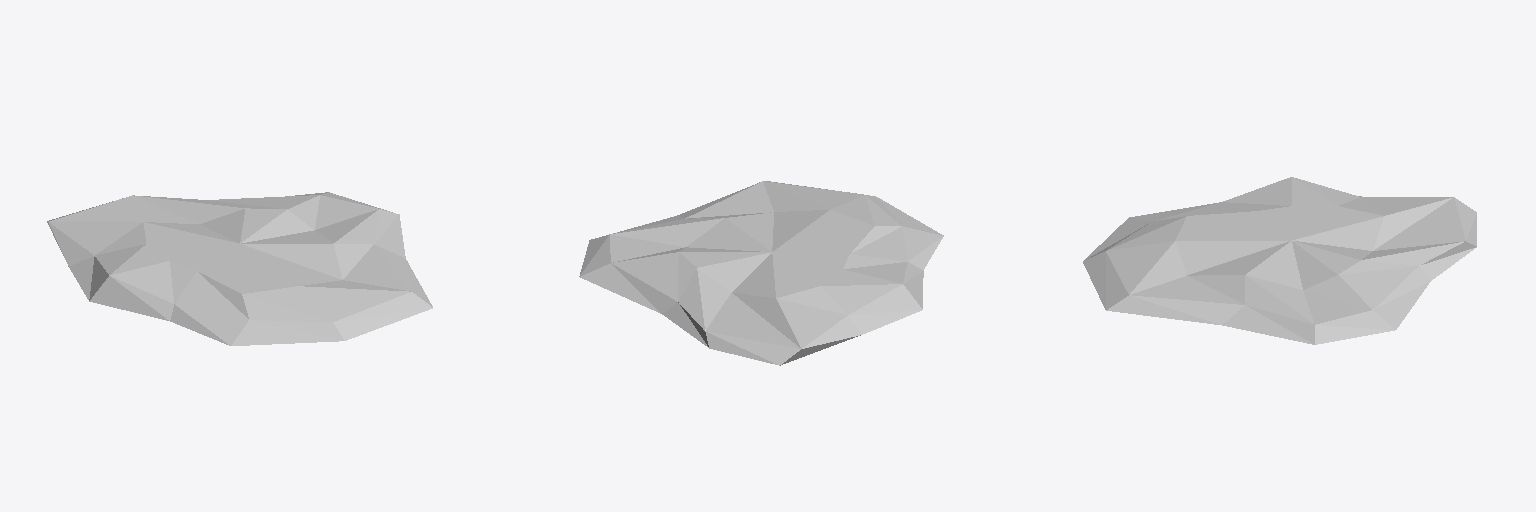
Rendered from rad.obj.
3 renders of one model, left to right at view 1: azimuth 30°, elevation 25°; view 2: azimuth 150°, elevation 25°; view 3: azimuth 270°, elevation 25°, orthographic.
Visible parts, largest first — view 1: GreenAcid1_00; view 2: GreenAcid1_00; view 3: GreenAcid1_00.
Boxes of the visible parts, x1=… form: GreenAcid1_00: x1=47, y1=192, x2=432, y2=345; GreenAcid1_00: x1=579, y1=181, x2=943, y2=365; GreenAcid1_00: x1=1083, y1=177, x2=1476, y2=344.
Size of the model in its own units: 3.2 by 0.2 by 3.4.